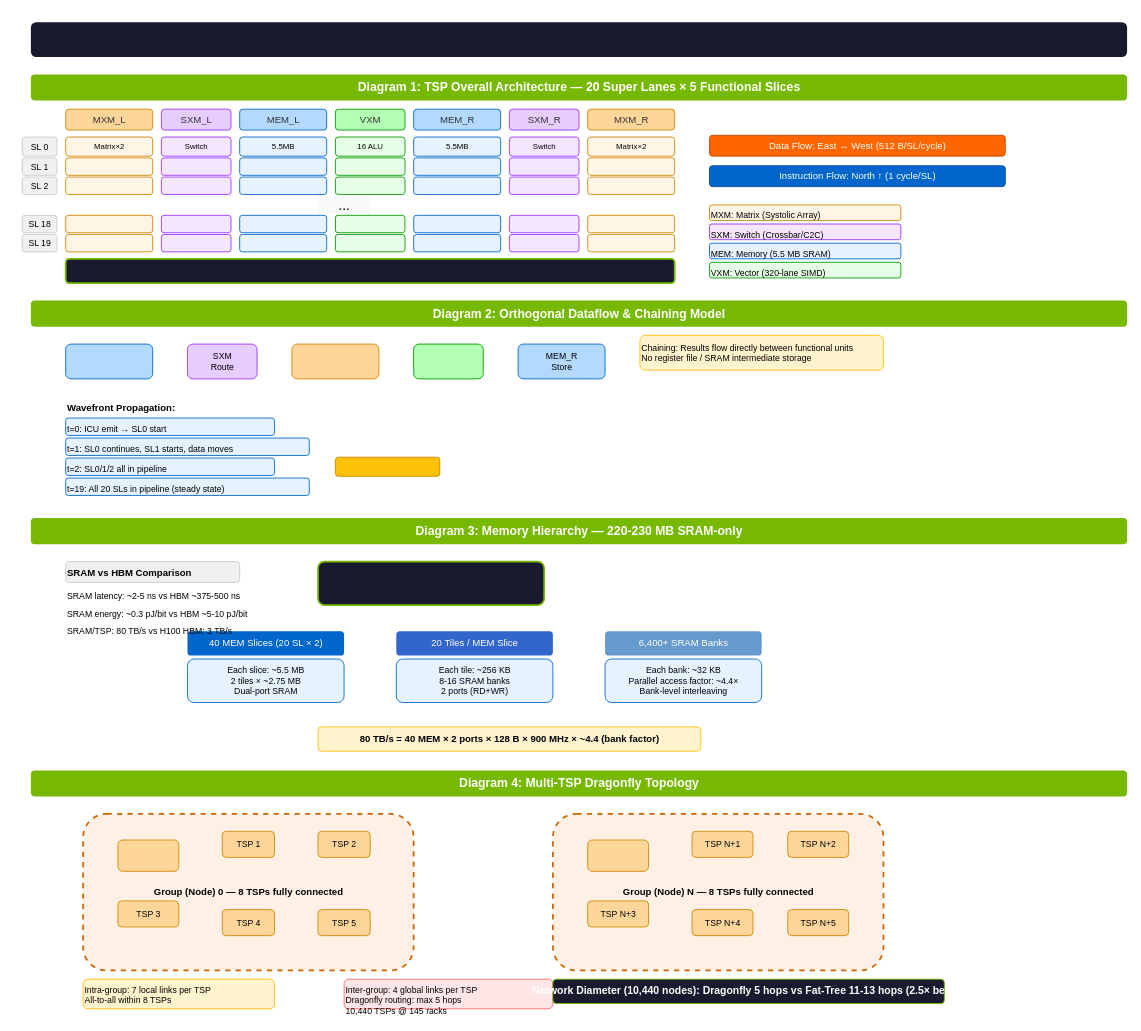
Image size: 1141x1031. Some labels were removed from this diagram. Here are the shapes that lost their labels. From the top down, the centre of each, then its label:
point (578, 39): Groq TSP Architecture Diagrams
point (369, 271): ICU — Instruction Control Unit (<3% die) | 144 Queues | SYNC/NOTIFY/DESKEW
point (109, 361): MEM_L Load A
point (335, 361): MXM Q×K^T
point (448, 361): VXM Softmax
point (387, 466): Ripple effect
point (431, 583): TSP Chip: ~220-230 MB SRAM 80 TB/s Bandwidth ~20% die area
point (148, 855): TSP 0 11 links
point (618, 855): TSP N
